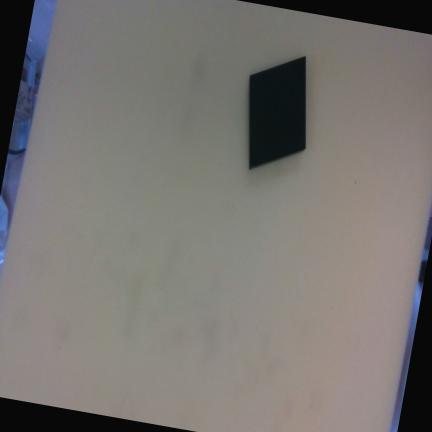tile: (249, 56, 306, 172)
